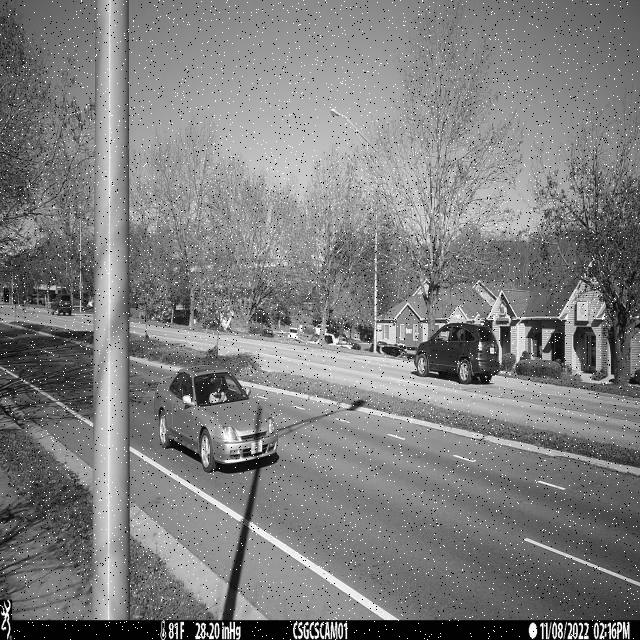Sedan: (155, 364, 279, 473)
